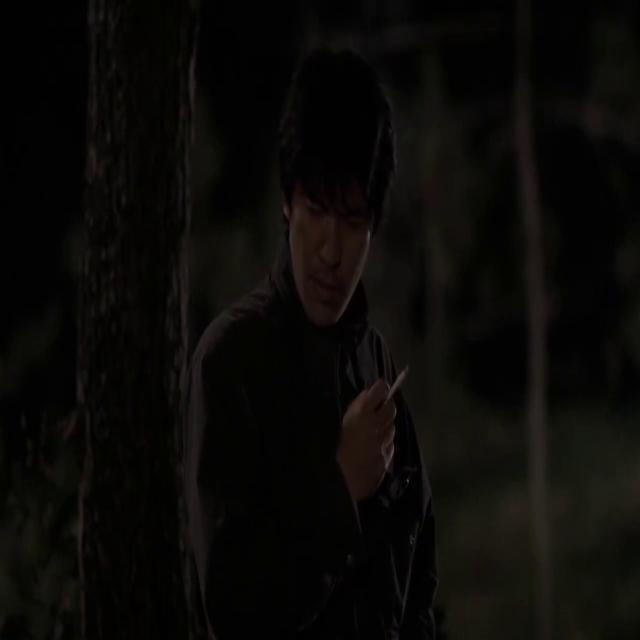Smooking: (385, 350, 414, 404)
